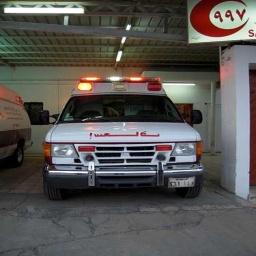ambulance: (43, 77, 203, 199)
